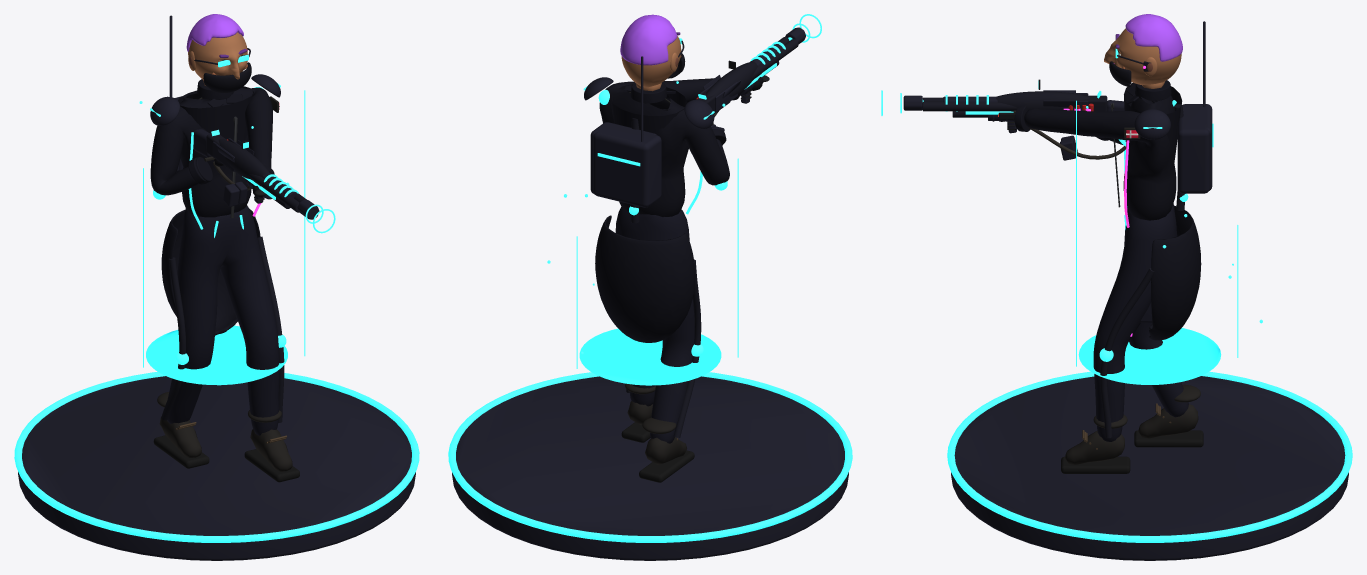
The model's file is hagl_neon.glb.
3 renders of one model, left to right at view 1: azimuth 30°, elevation 25°; view 2: azimuth 150°, elevation 25°; view 3: azimuth 270°, elevation 25°, orthographic.
Visible parts, largest first — view 1: fod_net, menneske_net, op4.002_net, hoved_net, vaaben_net, op4.001_net, op3_net, op4_net, op3.001_net; view 2: fod_net, menneske_net, op4.001_net, op4.002_net, hoved_net, vaaben_net, op3_net, op3.001_net, ned4_net, op4_net; view 3: fod_net, menneske_net, op4.002_net, hoved_net, vaaben_net, ned4_net, op4.001_net, op3_net, op3.001_net.
Boxes of the visible parts, box(x1,y1,x2,y2) form: fod_net: box(14, 371, 419, 560); menneske_net: box(150, 79, 299, 482); op4.002_net: box(139, 90, 305, 385); hoved_net: box(186, 14, 251, 92); vaaben_net: box(193, 129, 306, 212); op4.001_net: box(153, 87, 286, 422); op3_net: box(150, 15, 280, 125); op4_net: box(223, 174, 335, 233); op3.001_net: box(211, 129, 319, 219); fod_net: box(448, 372, 852, 560); menneske_net: box(595, 75, 769, 482); op4.001_net: box(593, 90, 727, 437); op4.002_net: box(547, 81, 738, 385); hoved_net: box(620, 14, 685, 87); vaaben_net: box(696, 37, 798, 113); op3_net: box(583, 56, 714, 141); op3.001_net: box(698, 27, 805, 111); ned4_net: box(590, 122, 656, 193); op4_net: box(717, 14, 821, 145); fod_net: box(947, 371, 1352, 560); menneske_net: box(1001, 80, 1203, 473); op4.002_net: box(1076, 100, 1262, 384); hoved_net: box(1104, 14, 1182, 86); vaaben_net: box(922, 90, 1124, 121); ned4_net: box(1177, 106, 1210, 193); op4.001_net: box(1099, 104, 1213, 437); op3_net: box(1134, 21, 1205, 139); op3.001_net: box(903, 91, 1101, 110).
Bounding box in the file's own units: 1.94 × 2.43 × 2.25.
